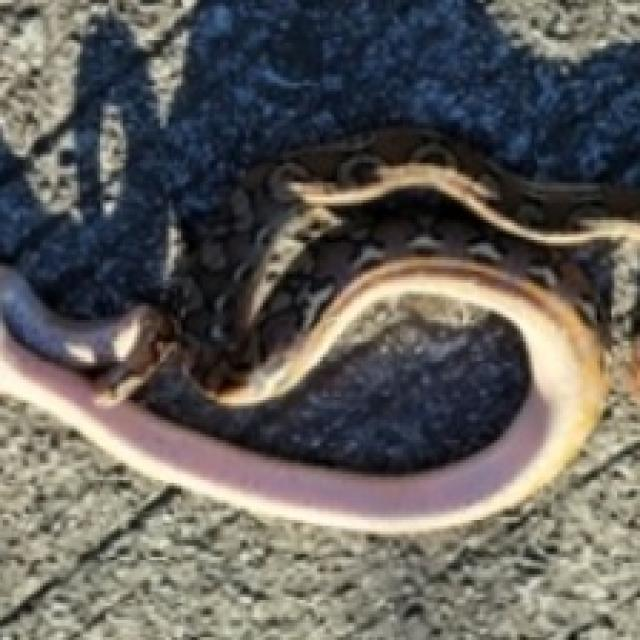reticulated python: (0, 129, 637, 531)
